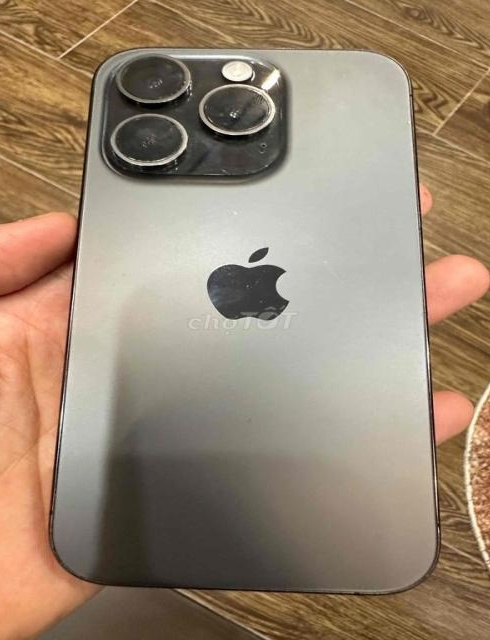scratch: (207, 259, 288, 320), (202, 89, 274, 131), (320, 257, 355, 290), (45, 468, 57, 551), (118, 155, 182, 166), (247, 163, 276, 172), (199, 171, 225, 177), (244, 415, 255, 424)
